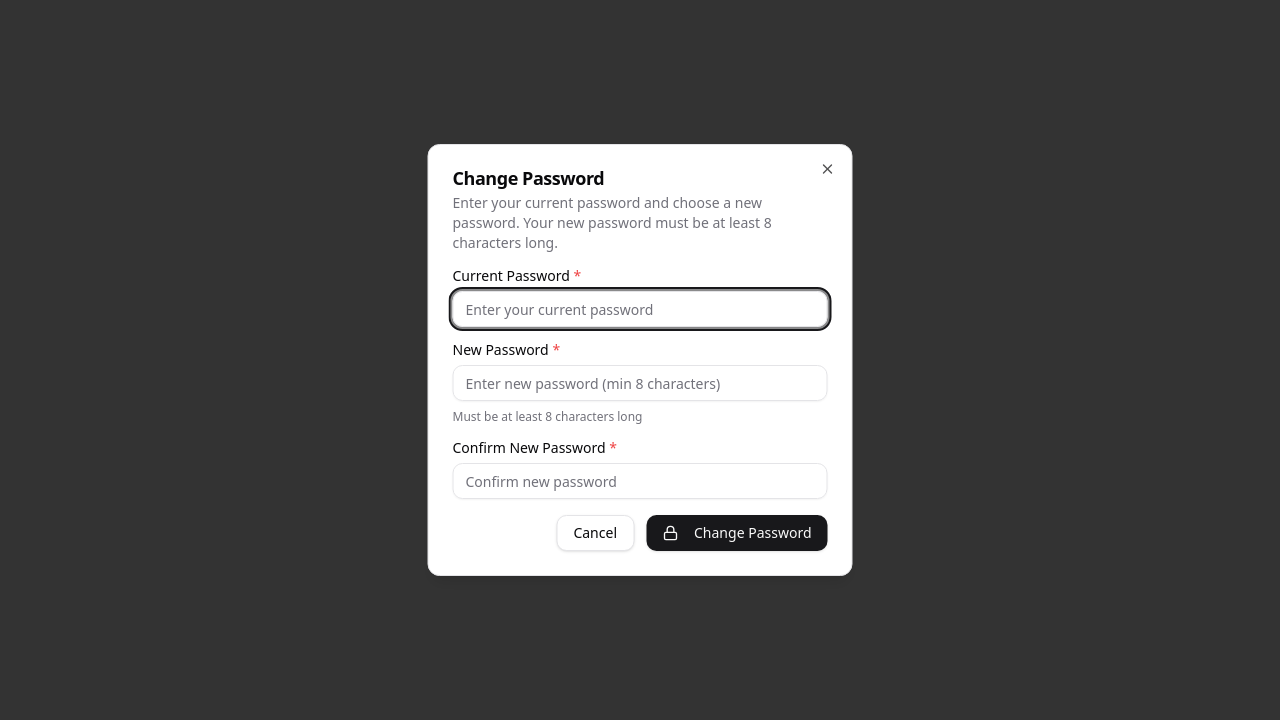
Test: ChangePasswordDialog › validates passwords match
This screenshot has width=1280, height=720.
Type "oldpassword" into the password field with id "current-password" at (640, 309), box x1=452 y1=291 x2=828 y2=327
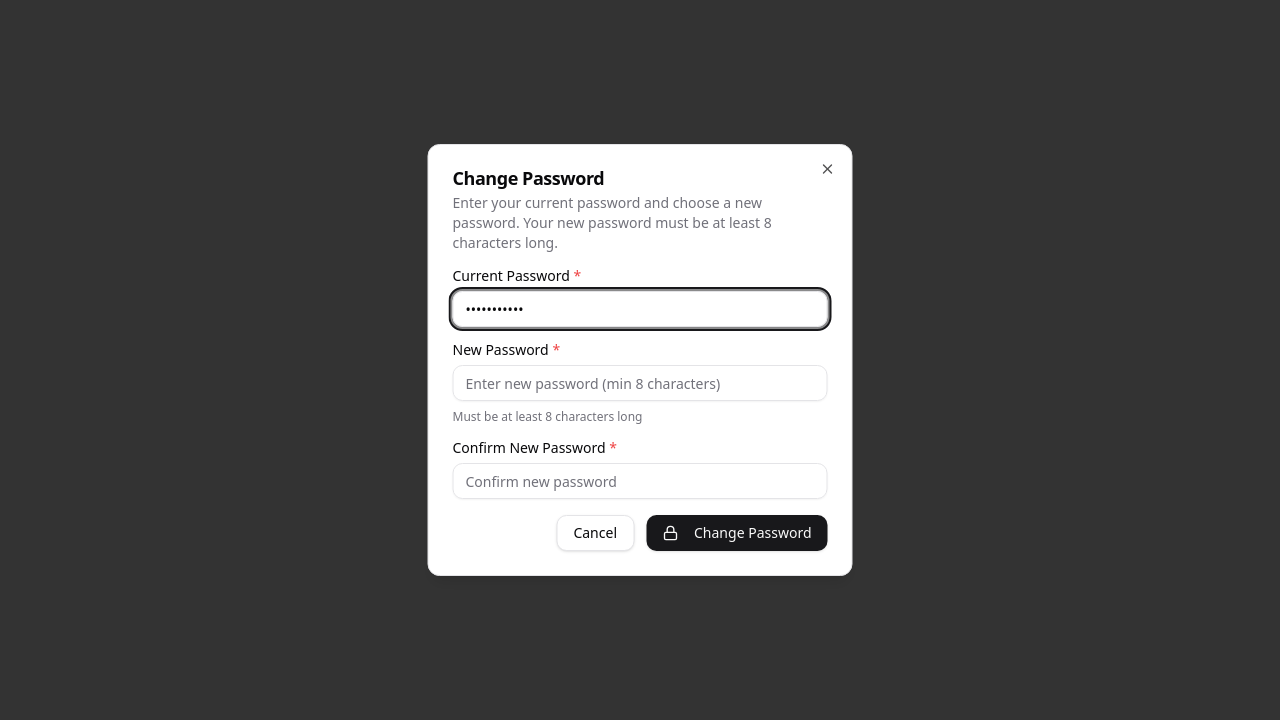
Type "newpassword123" into the password field with id "new-password" at (640, 383), box x1=452 y1=365 x2=828 y2=401
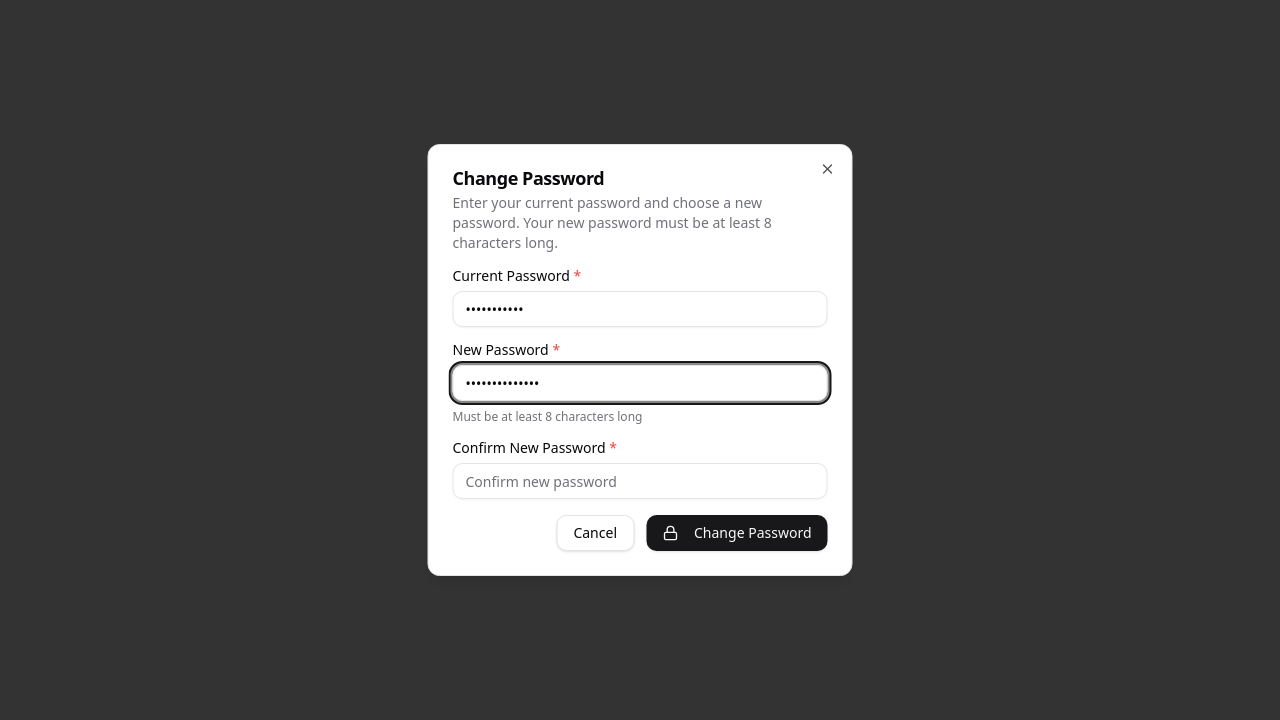
Type "differentpassword" into the password field with id "confirm-password" at (640, 481), box x1=452 y1=463 x2=828 y2=499
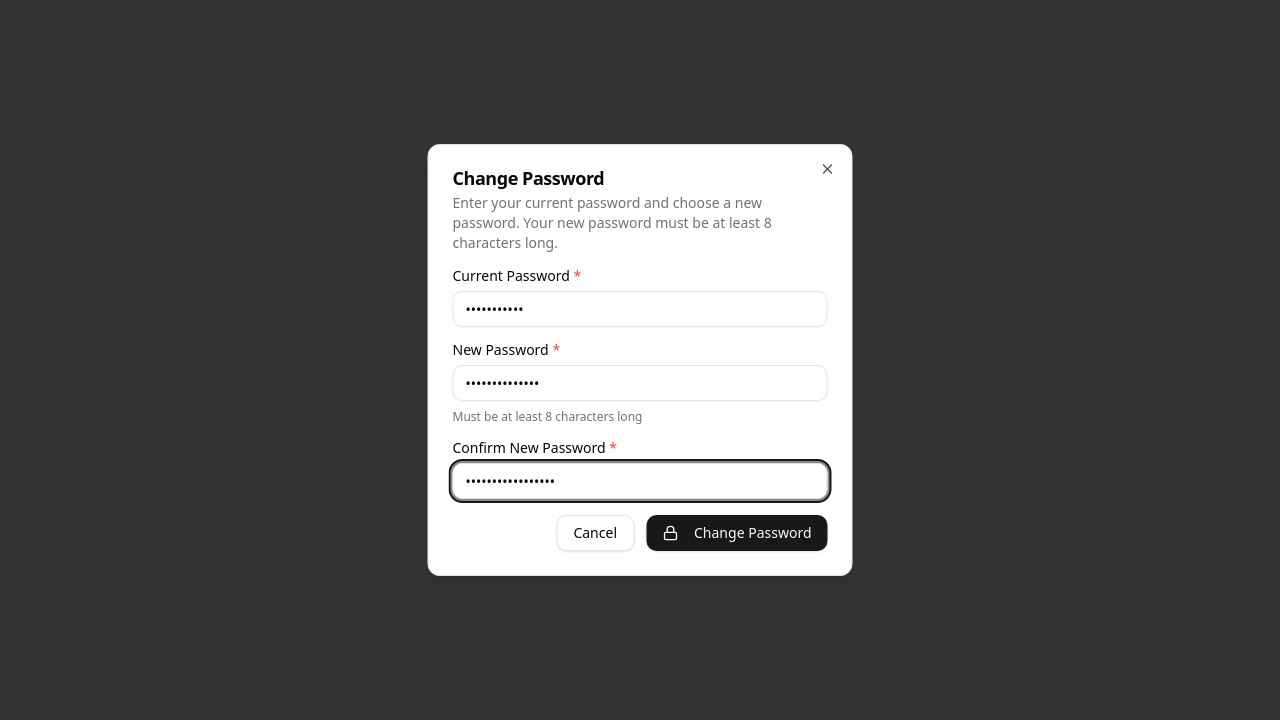
Click the button "Change Password" at (737, 533), box x1=646 y1=515 x2=828 y2=551
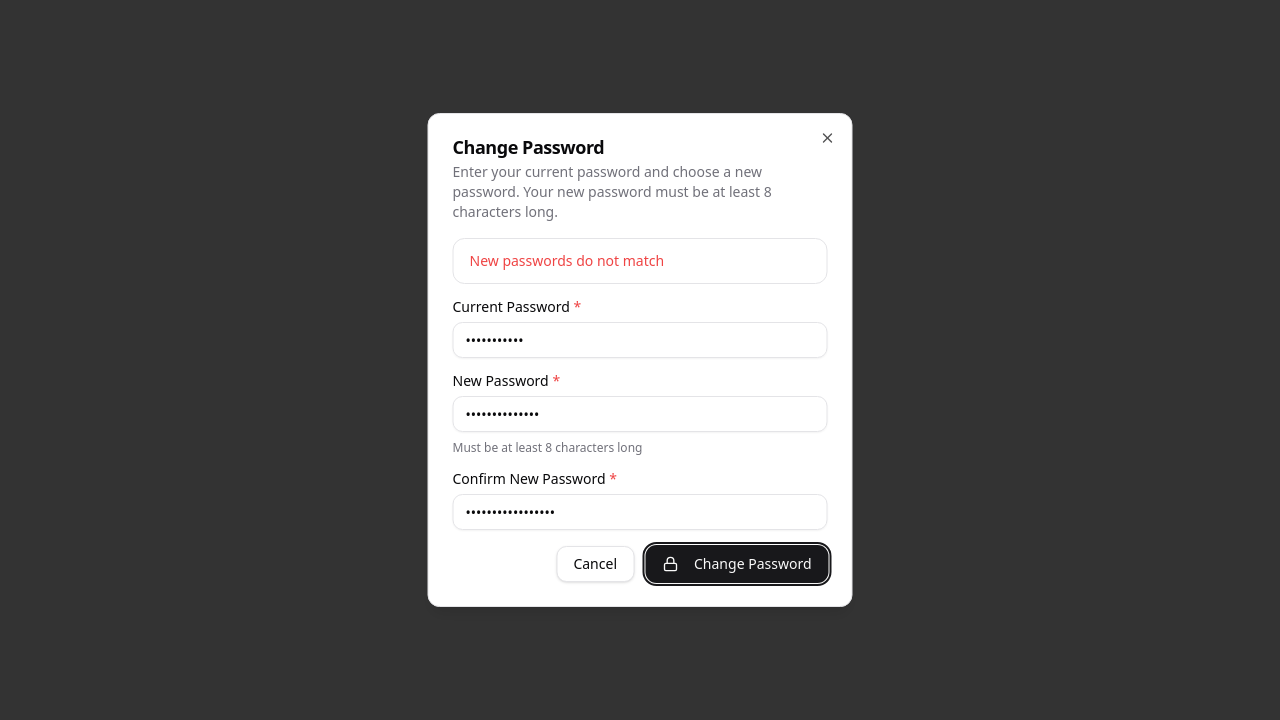
Check: the text "New passwords do not match" is shown, box x1=470 y1=251 x2=664 y2=270
